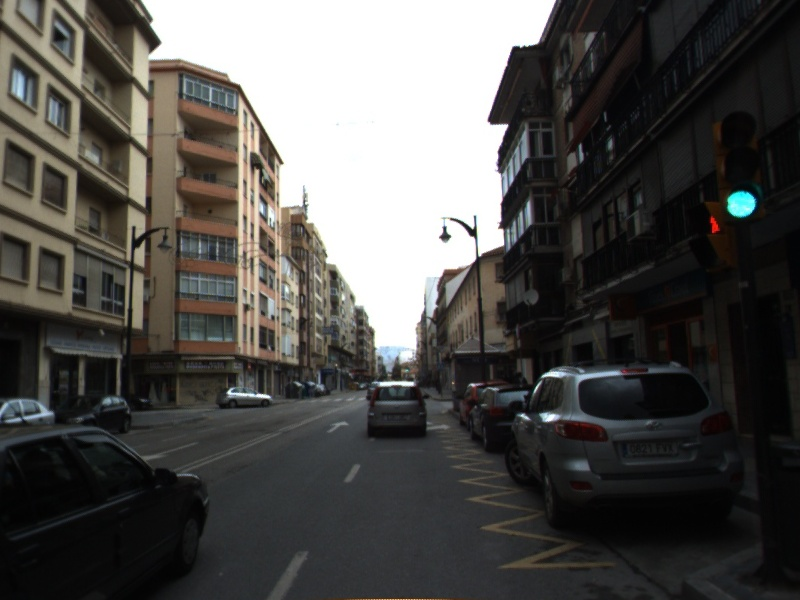STRAIGHT: (324, 419, 351, 435)
